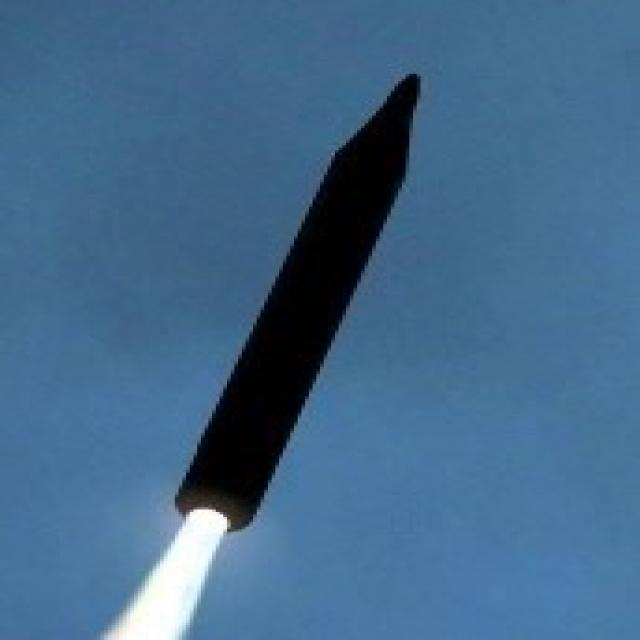missile: (166, 68, 428, 549)
